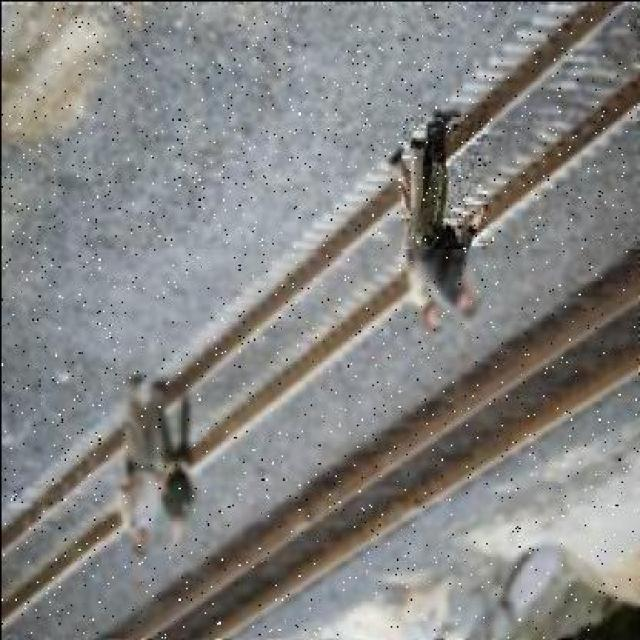rail: (1, 6, 636, 632), (99, 250, 638, 638)
